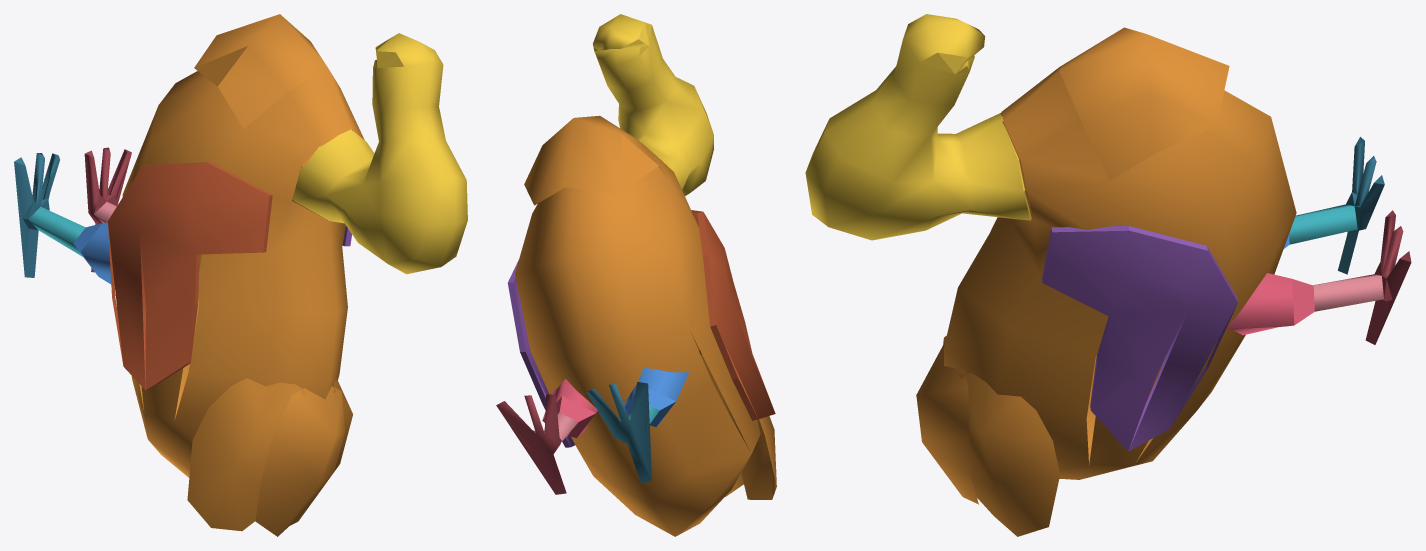
The model's file is dodo_1m_30grados_carton.obj.
3 views of the same model, side by side, from view 1: azimuth 30°, elevation 25°; view 2: azimuth 150°, elevation 25°; view 3: azimuth 270°, elevation 25° (orthographic). The views are drawn at different scales.
Parts seen in each view (by area): view 1: 01_cuerpo, 02_cabeza, 03_pieza_frontal, 07_pata_a_pie, 10_pata_b_pie, 05_pata_a_muslo, 06_pata_a_canilla; view 2: 01_cuerpo, 02_cabeza, 03_pieza_frontal, 07_pata_a_pie, 10_pata_b_pie, 05_pata_a_muslo, 04_pieza_lateral, 08_pata_b_muslo, 09_pata_b_canilla; view 3: 01_cuerpo, 02_cabeza, 04_pieza_lateral, 08_pata_b_muslo, 10_pata_b_pie, 07_pata_a_pie, 09_pata_b_canilla, 06_pata_a_canilla.
Part boxes in pixels (bbox=[...]): 01_cuerpo: bbox=[122, 14, 364, 536]; 02_cabeza: bbox=[293, 33, 467, 274]; 03_pieza_frontal: bbox=[108, 162, 272, 390]; 07_pata_a_pie: bbox=[14, 153, 59, 277]; 10_pata_b_pie: bbox=[84, 147, 131, 272]; 05_pata_a_muslo: bbox=[73, 222, 111, 284]; 06_pata_a_canilla: bbox=[28, 207, 85, 256]; 01_cuerpo: bbox=[515, 115, 776, 536]; 02_cabeza: bbox=[593, 14, 713, 195]; 03_pieza_frontal: bbox=[691, 210, 775, 420]; 07_pata_a_pie: bbox=[586, 382, 651, 482]; 10_pata_b_pie: bbox=[496, 394, 566, 494]; 05_pata_a_muslo: bbox=[624, 367, 688, 426]; 04_pieza_lateral: bbox=[507, 260, 574, 447]; 08_pata_b_muslo: bbox=[542, 379, 597, 437]; 09_pata_b_canilla: bbox=[544, 412, 578, 440]; 01_cuerpo: bbox=[916, 27, 1296, 536]; 02_cabeza: bbox=[805, 14, 1031, 240]; 04_pieza_lateral: bbox=[1042, 226, 1237, 451]; 08_pata_b_muslo: bbox=[1226, 273, 1314, 335]; 10_pata_b_pie: bbox=[1365, 210, 1411, 344]; 07_pata_a_pie: bbox=[1338, 137, 1384, 274]; 09_pata_b_canilla: bbox=[1313, 274, 1383, 311]; 06_pata_a_canilla: bbox=[1289, 204, 1357, 244].
Bounding box in the file's own units: 527 × 1019 × 1000.
